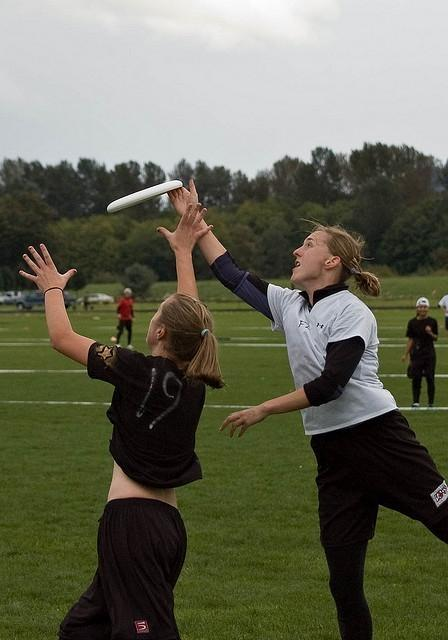car: (14, 290, 76, 312), (76, 293, 114, 305), (0, 290, 21, 304)
